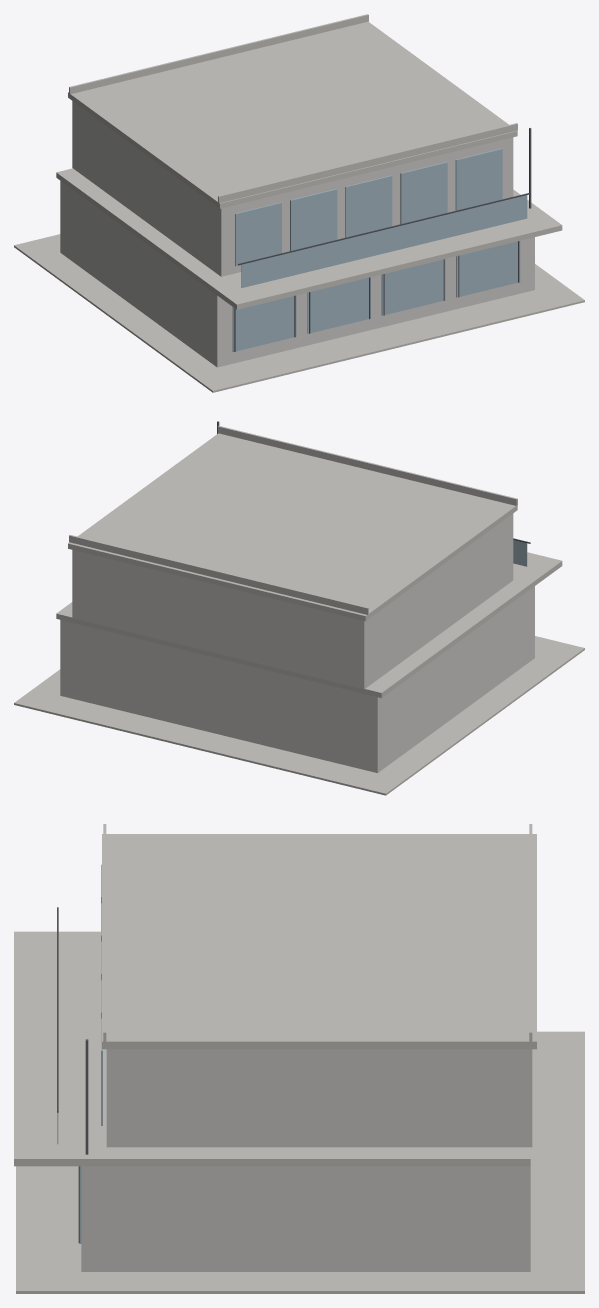
File: modern-large.glb
The picture shows the model from 3 angles, top to bottom: view 1: azimuth 30°, elevation 25°; view 2: azimuth 150°, elevation 25°; view 3: azimuth 270°, elevation 25°; orthographic projection. The views are drawn at different scales.
Parts seen in each view (by area): view 1: House; view 2: House; view 3: House.
Boxes of the visible parts, x1=… form: House: x1=14, y1=14, x2=584, y2=392; House: x1=14, y1=421, x2=584, y2=795; House: x1=14, y1=824, x2=584, y2=1293.
Size of the model in its own units: 16.4 by 6.94 by 15.25.
